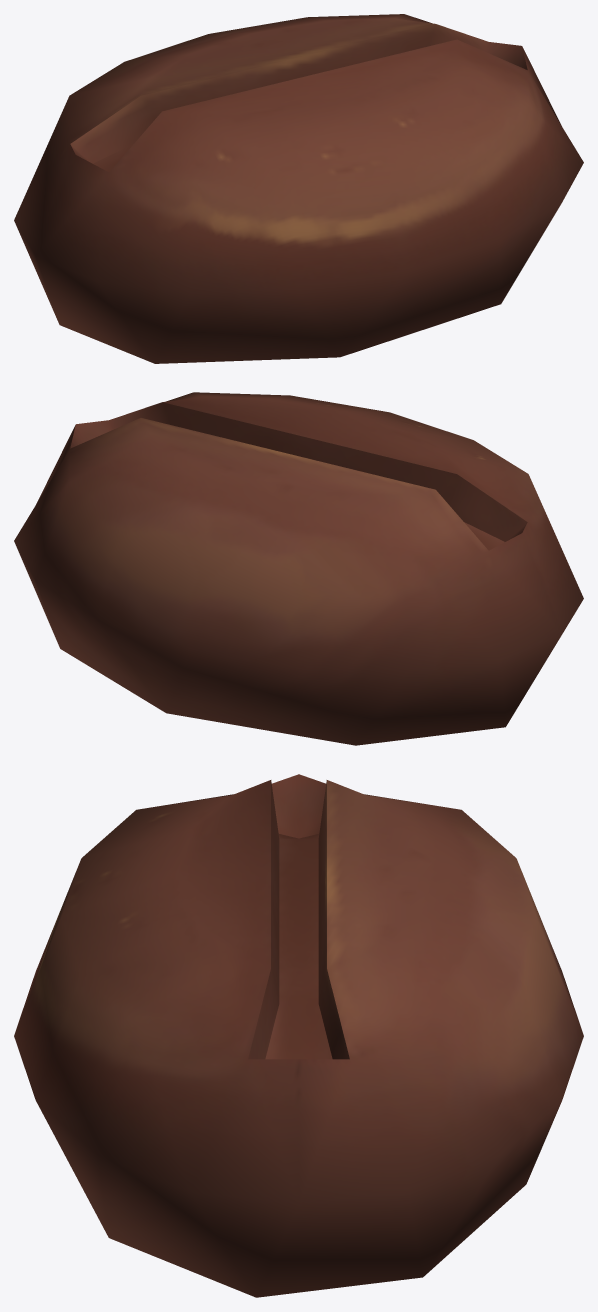
File: cafeseed.fbx
The picture shows the model from 3 angles, top to bottom: view 1: azimuth 30°, elevation 25°; view 2: azimuth 150°, elevation 25°; view 3: azimuth 270°, elevation 25°; orthographic projection. The views are drawn at different scales.
Visible parts, largest first — view 1: cafeseed; view 2: cafeseed; view 3: cafeseed.
Boxes of the visible parts, x1=… form: cafeseed: x1=14, y1=14, x2=583, y2=363; cafeseed: x1=14, y1=392, x2=583, y2=745; cafeseed: x1=14, y1=774, x2=583, y2=1297.
Size of the model in its own units: 4.49 by 2.02 by 3.22.
